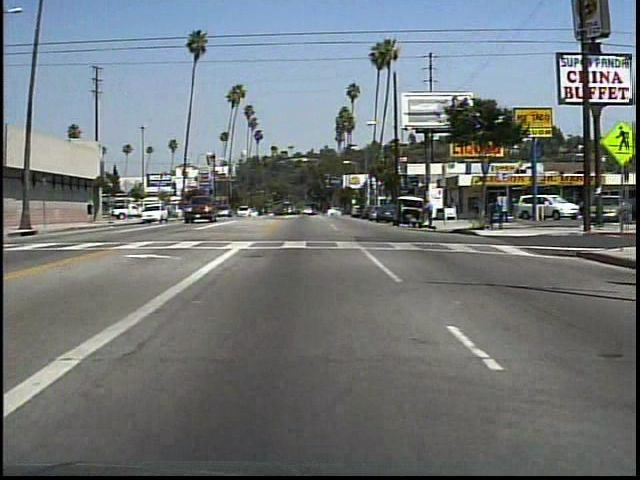person: (424, 197, 437, 230), (468, 193, 482, 221), (406, 213, 423, 231), (86, 199, 95, 227)
